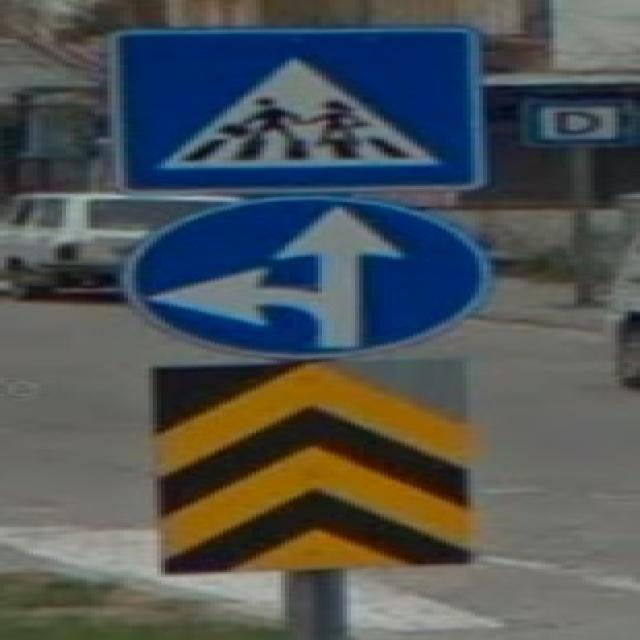Straight or Left: (121, 195, 492, 358)
